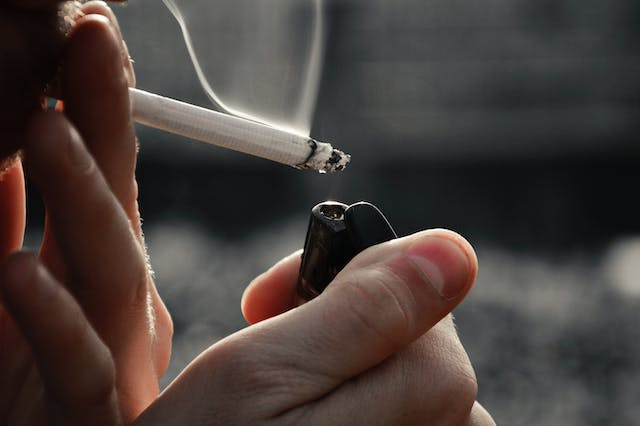Cigarette: (42, 65, 353, 178)
